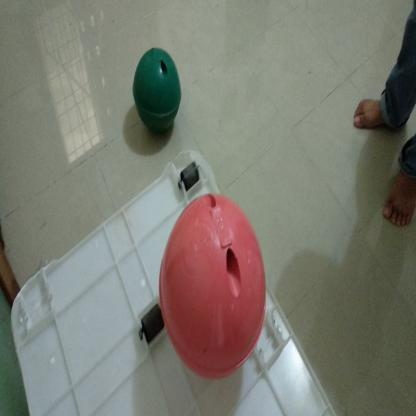green_buoy: (130, 45, 187, 135)
red_buoy: (158, 193, 269, 380)
